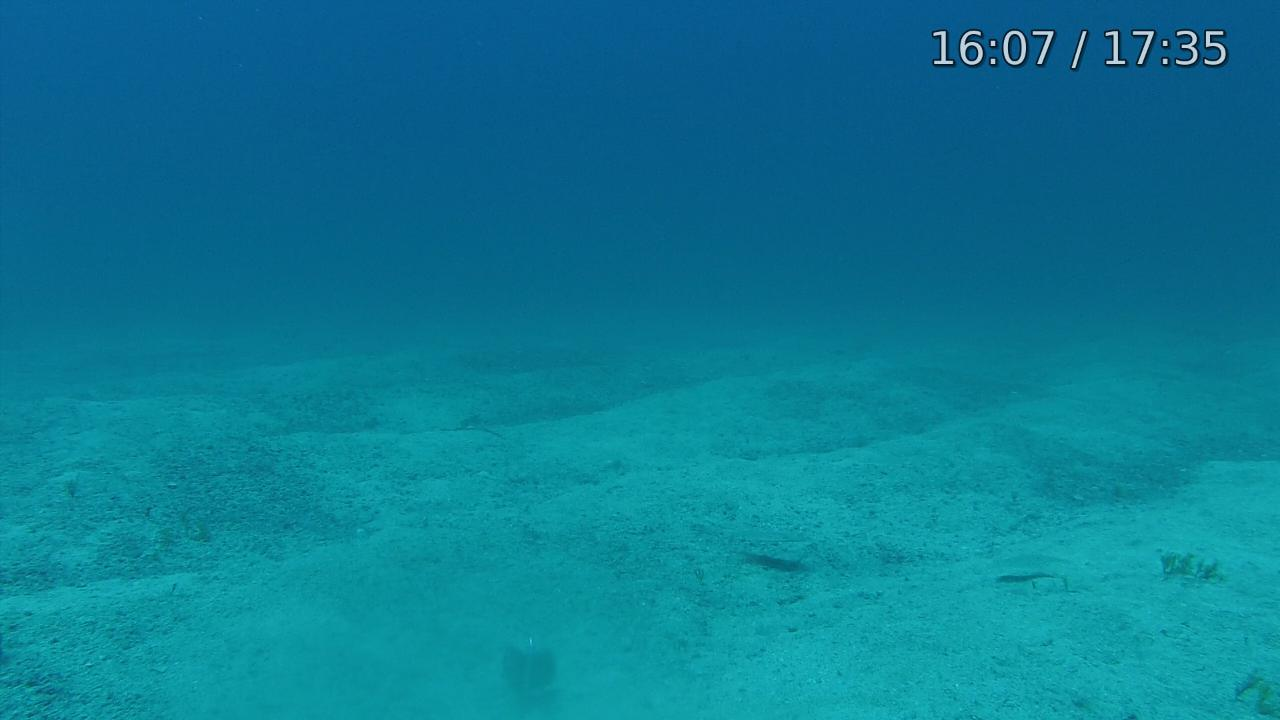bothus: (719, 529, 811, 574), (989, 545, 1075, 574)
